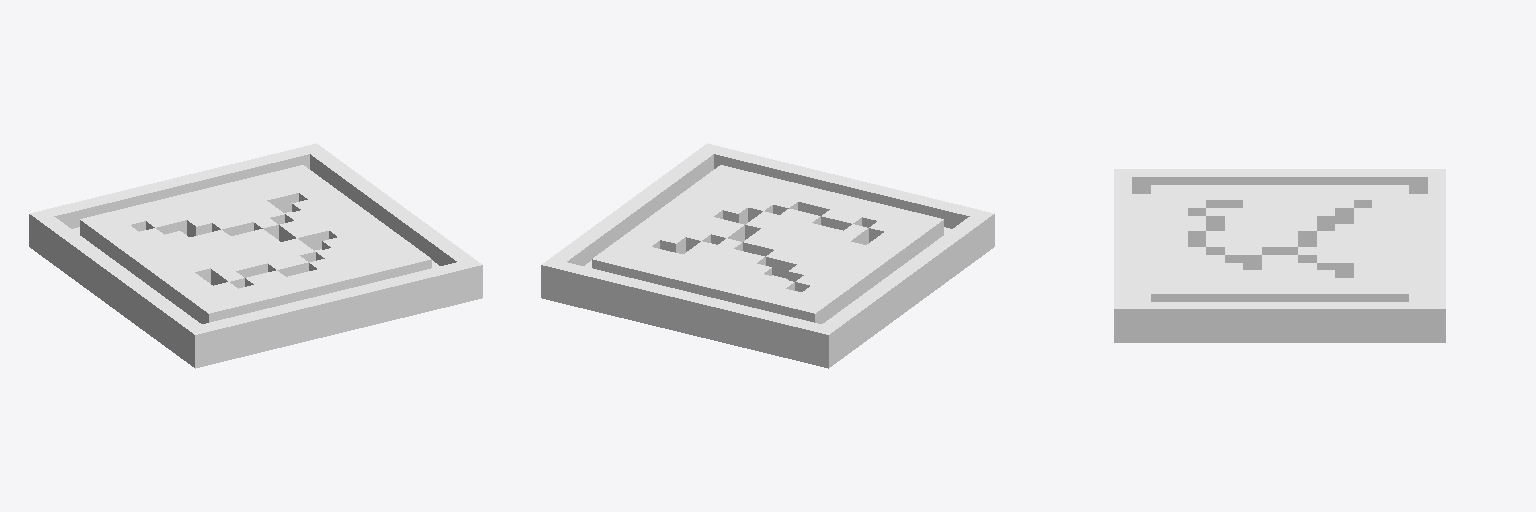
File: FloorTile10.obj
3 views of the same model, side by side, from view 1: azimuth 30°, elevation 25°; view 2: azimuth 150°, elevation 25°; view 3: azimuth 270°, elevation 25° (orthographic).
Parts seen in each view (by area): view 1: object 1; view 2: object 1; view 3: object 1.
Boxes of the visible parts, x1,y1,x2,y2 form: object 1: [29, 143, 482, 368]; object 1: [541, 143, 994, 368]; object 1: [1114, 169, 1445, 342].
Bounding box in the file's own units: 1.8 × 0.2 × 1.8.